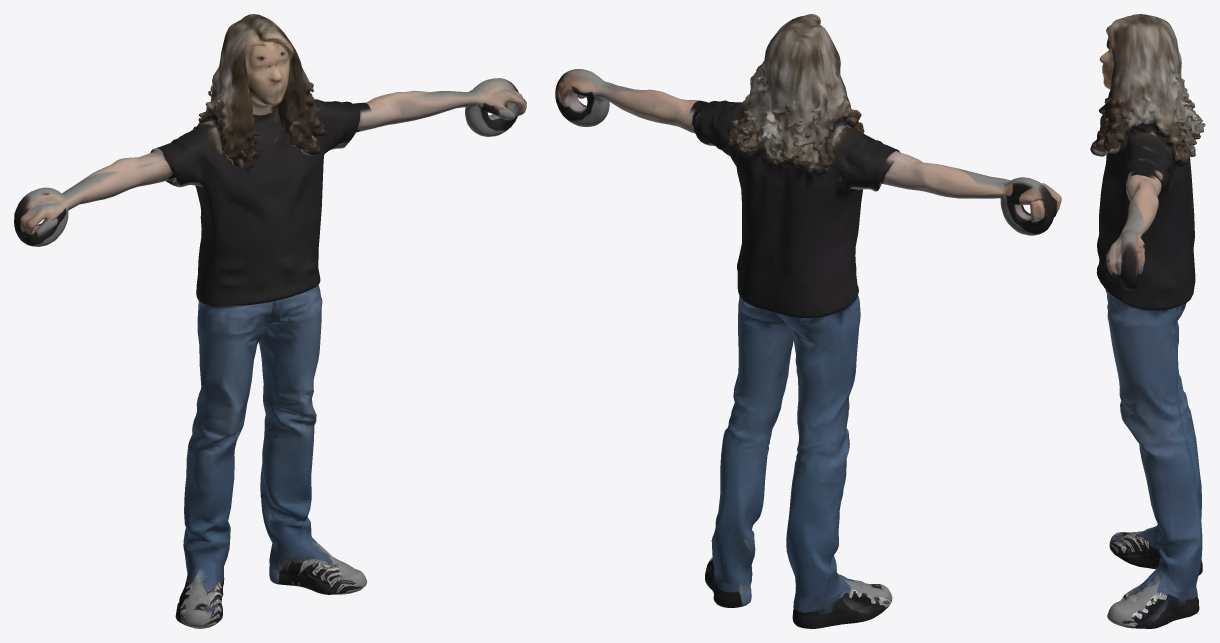
The model's file is max.glb.
3 renders of one model, left to right at view 1: azimuth 30°, elevation 25°; view 2: azimuth 150°, elevation 25°; view 3: azimuth 270°, elevation 25°, orthographic. The views are drawn at different scales.
Visible parts, largest first — view 1: tripo_node_244a2039-4f11-4710-8ceb-407e35687b35; view 2: tripo_node_244a2039-4f11-4710-8ceb-407e35687b35; view 3: tripo_node_244a2039-4f11-4710-8ceb-407e35687b35.
Part boxes in pixels (x1,y1,x2,y2): tripo_node_244a2039-4f11-4710-8ceb-407e35687b35: (14, 14, 526, 628); tripo_node_244a2039-4f11-4710-8ceb-407e35687b35: (555, 14, 1061, 628); tripo_node_244a2039-4f11-4710-8ceb-407e35687b35: (1090, 14, 1205, 628).
Bounding box in the file's own units: 0.8968 × 1 × 0.1831.
1 material, 1 textured.
